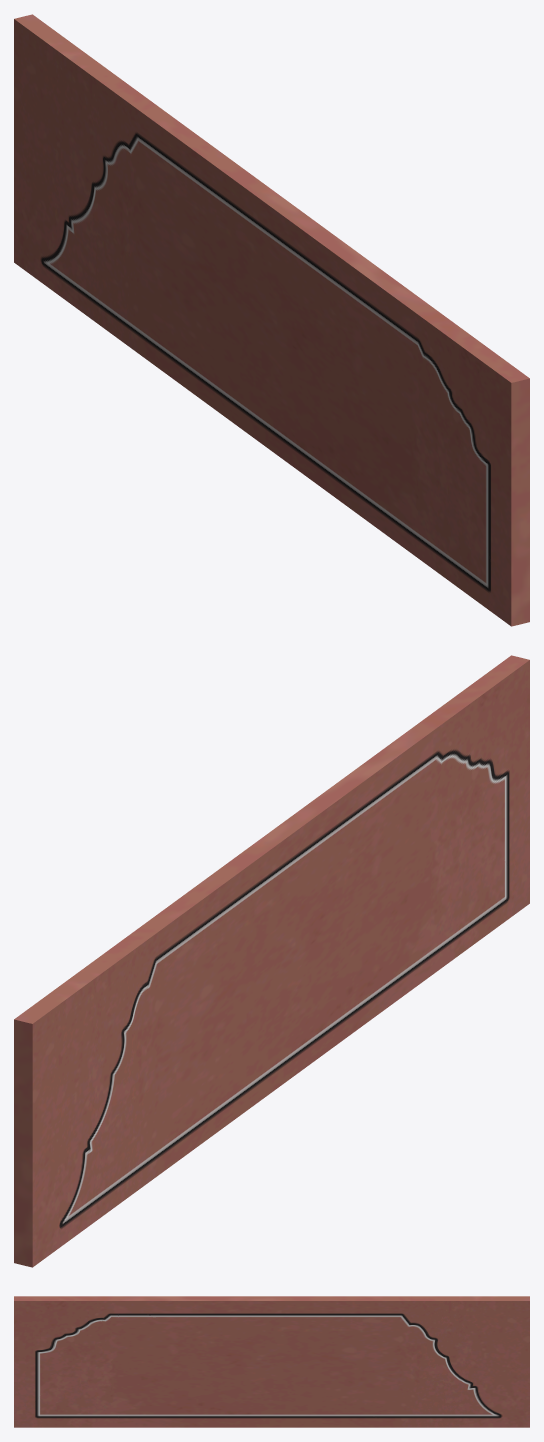
File: SM_TopWall01F.fbx
3 renders of one model, top to bottom at view 1: azimuth 30°, elevation 25°; view 2: azimuth 150°, elevation 25°; view 3: azimuth 270°, elevation 25°, orthographic. The views are drawn at different scales.
Visible parts, largest first — view 1: SM_TopWall01F; view 2: SM_TopWall01F; view 3: SM_TopWall01F.
Part boxes in pixels (x1=…): SM_TopWall01F: x1=14, y1=14, x2=529, y2=626; SM_TopWall01F: x1=14, y1=655, x2=529, y2=1267; SM_TopWall01F: x1=14, y1=1296, x2=529, y2=1427.
Bounding box in the file's own units: 5.32 × 247 × 66.67.
1 material, 1 textured.
